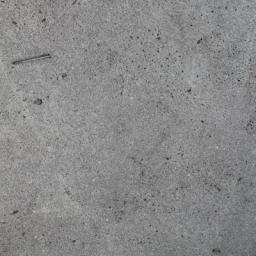FOD: (12, 51, 57, 69)
